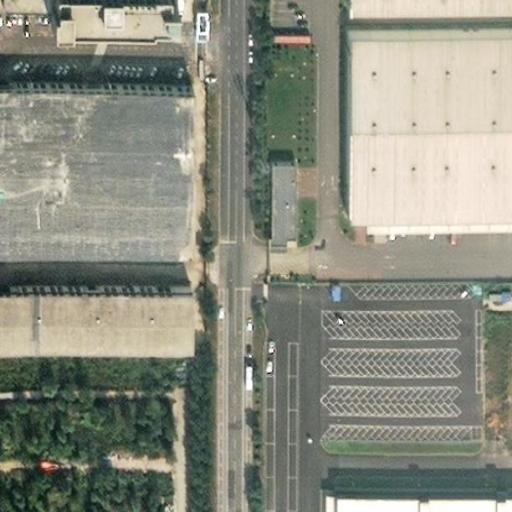building: (341, 29, 512, 234), (0, 69, 178, 230), (0, 269, 183, 332), (325, 487, 512, 512), (264, 157, 289, 244), (42, 0, 161, 9), (270, 28, 310, 45), (266, 268, 280, 277), (509, 272, 512, 290)
